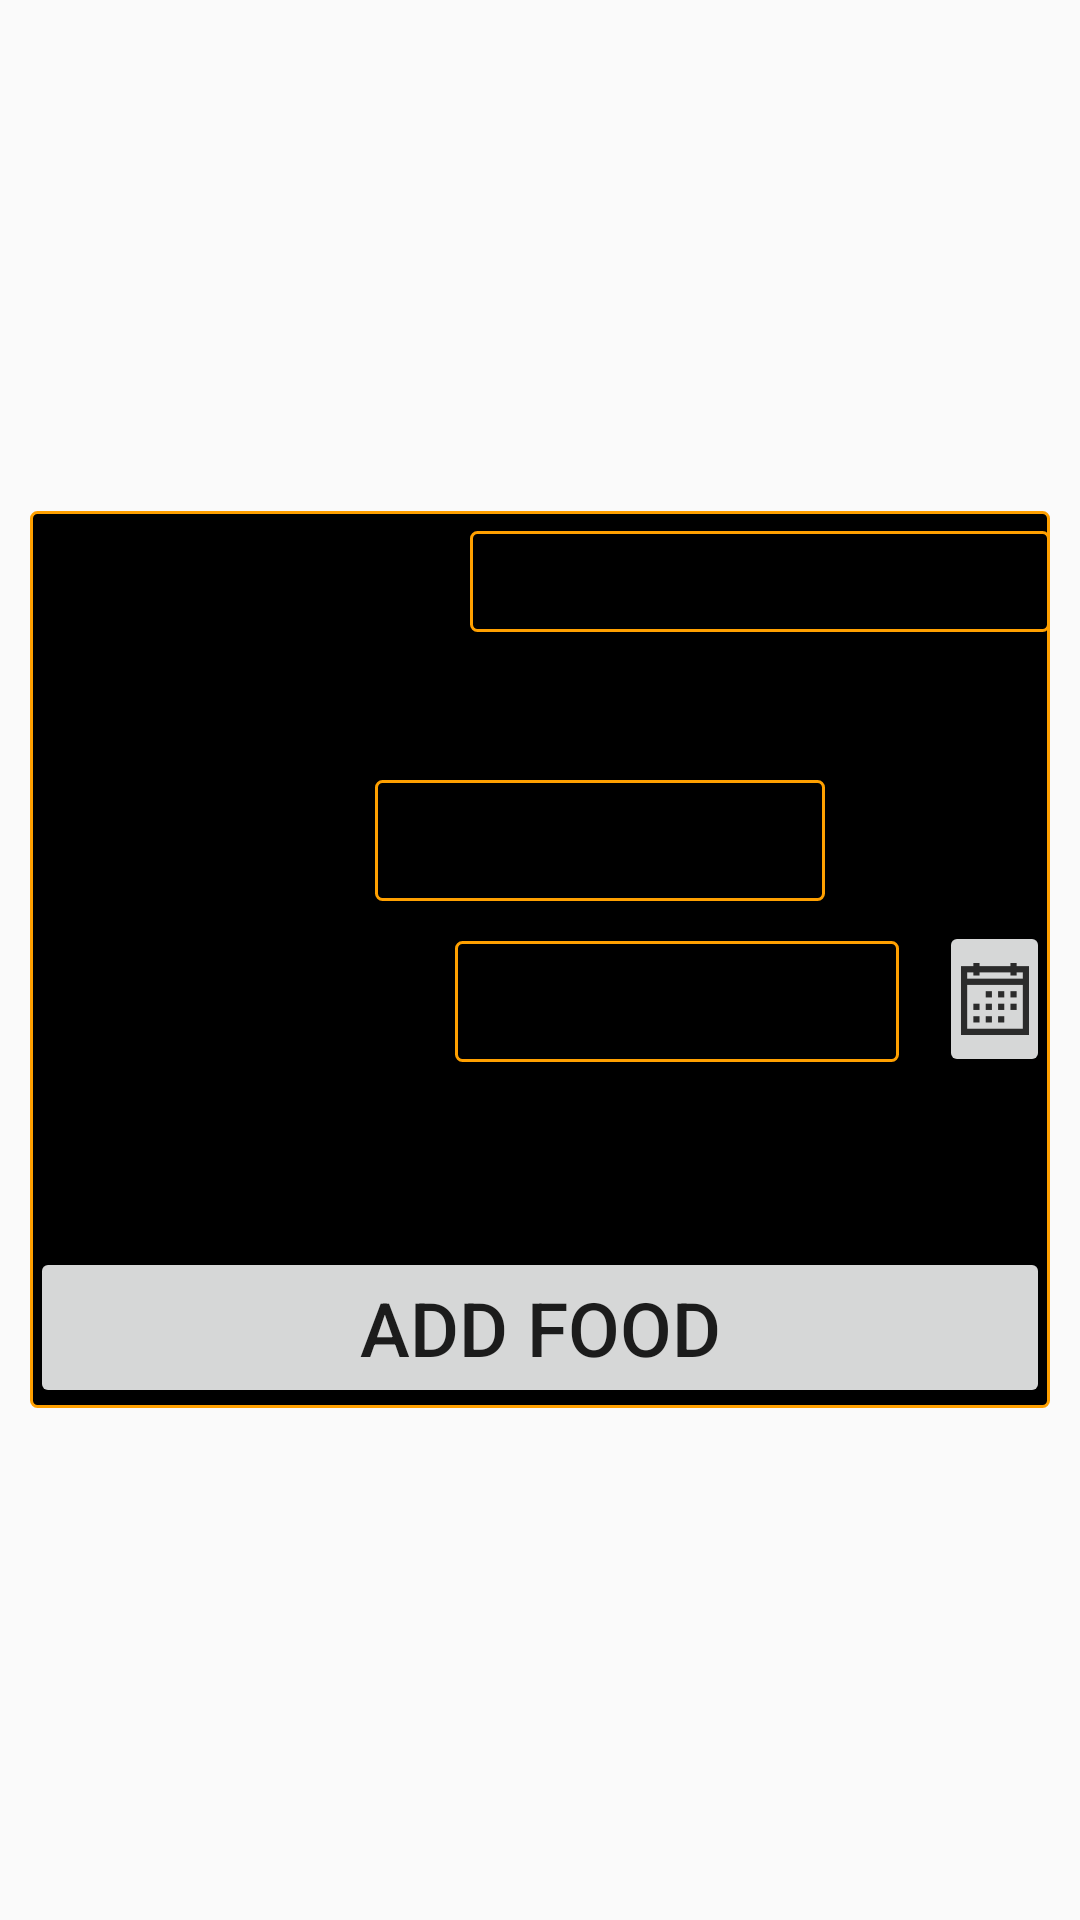

Named icons in this screenshot (1080×1920) and their bounding boxes, (x1, y1, x2, y2):
calendar: (951, 939, 1038, 1059)
